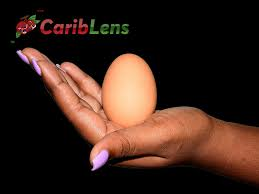egg: (101, 53, 157, 126)
